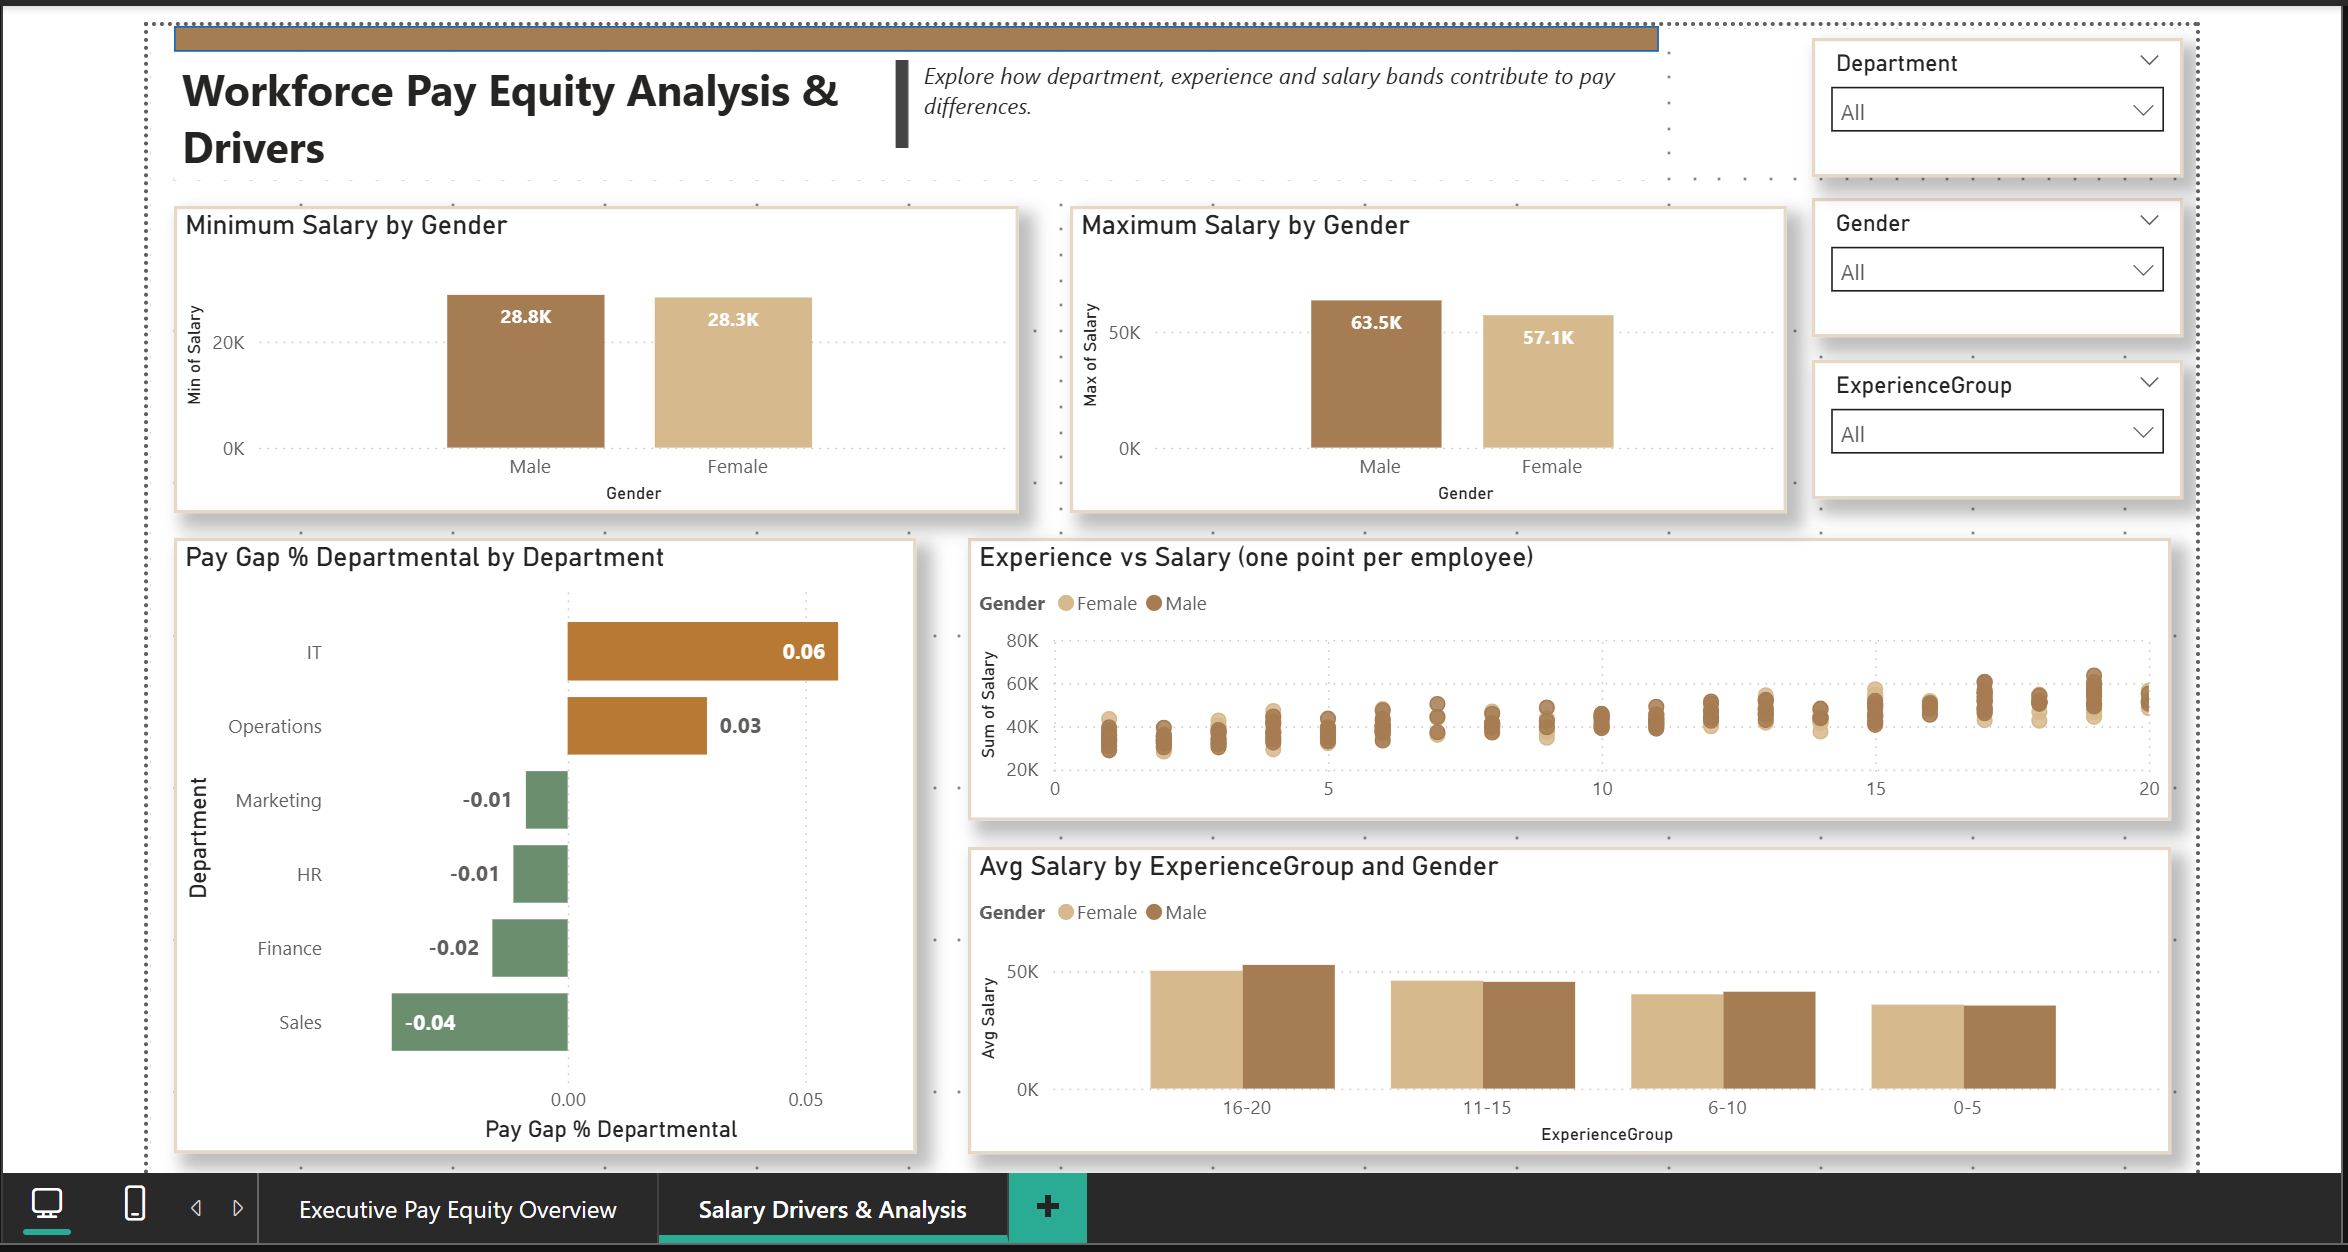

What the dashboard file says about the page in this screenshot:
{"tool":"powerbi","page":{"name":"Salary Drivers & Analysis","canvas":[1280,720],"ordinal":1},"visuals":[{"type":"textbox","box":[16,16,464,80],"z":0,"group":"g1"},{"type":"scatterChart","title":"Experience vs Salary (one point per employee)","fields":{"Y":["Sum(cleaned_pay_equity.Salary)"],"Series":["cleaned_pay_equity.Gender"],"Category":["cleaned_pay_equity.EmployeeID"],"X":["_Measures.Avg Experience Years"]},"box":[512,320,752,176],"z":0},{"type":"textbox","box":[480,16,464,80],"z":1000,"group":"g1"},{"type":"clusteredColumnChart","title":"Minimum Salary by Gender","fields":{"Category":["cleaned_pay_equity.Gender"],"Y":["Min(cleaned_pay_equity.Salary)"]},"box":[16,112,528,192],"z":1000},{"type":"clusteredColumnChart","title":"Maximum Salary by Gender","fields":{"Category":["cleaned_pay_equity.Gender"],"Y":["Max(cleaned_pay_equity.Salary)"]},"box":[576,112,448,192],"z":2000},{"type":"clusteredBarChart","fields":{"Category":["cleaned_pay_equity.Department"],"Y":["_Measures.Pay Gap % Departmental"]},"box":[16,320,464,384],"z":3000},{"type":"clusteredColumnChart","fields":{"Category":["cleaned_pay_equity.ExperienceGroup"],"Y":["_Measures.Avg Salary"],"Series":["cleaned_pay_equity.Gender"]},"box":[512,512,752,192],"z":4000},{"type":"group","id":"g1","title":"Group 1","box":[16,16,928,80],"z":5000},{"type":"shape","box":[16,0,928,16],"z":6000},{"type":"slicer","fields":{"Values":["cleaned_pay_equity.Gender"]},"box":[1040,108.5,232,87],"z":6000,"group":"g2"},{"type":"group","id":"g2","title":"Group 2","box":[1040,8,232,288],"z":7000},{"type":"slicer","fields":{"Values":["cleaned_pay_equity.Department"]},"box":[1040,8,232,87],"z":7000,"group":"g2"},{"type":"slicer","fields":{"Values":["cleaned_pay_equity.ExperienceGroup"]},"box":[1040,209,232,87],"z":8000,"group":"g2"}]}

Visuals, with their boxes on the page's 1280x720 design canvas (x1, y1, x2, y2). These are canvas units, not pixel positions in the 2348x1252 screenshot, which may show the page scaled, cropped or inside an application window:
textbox: (16, 16, 480, 96)
"Experience vs Salary (one point per employee)" scatterChart: (512, 320, 1264, 496)
textbox: (480, 16, 944, 96)
"Minimum Salary by Gender" clusteredColumnChart: (16, 112, 544, 304)
"Maximum Salary by Gender" clusteredColumnChart: (576, 112, 1024, 304)
clusteredBarChart - cleaned_pay_equity.Department x _Measures.Pay Gap % Departmental: (16, 320, 480, 704)
clusteredColumnChart - cleaned_pay_equity.ExperienceGroup x _Measures.Avg Salary: (512, 512, 1264, 704)
"Group 1" group: (16, 16, 944, 96)
shape: (16, 0, 944, 16)
slicer - cleaned_pay_equity.Gender: (1040, 108, 1272, 196)
"Group 2" group: (1040, 8, 1272, 296)
slicer - cleaned_pay_equity.Department: (1040, 8, 1272, 95)
slicer - cleaned_pay_equity.ExperienceGroup: (1040, 209, 1272, 296)
